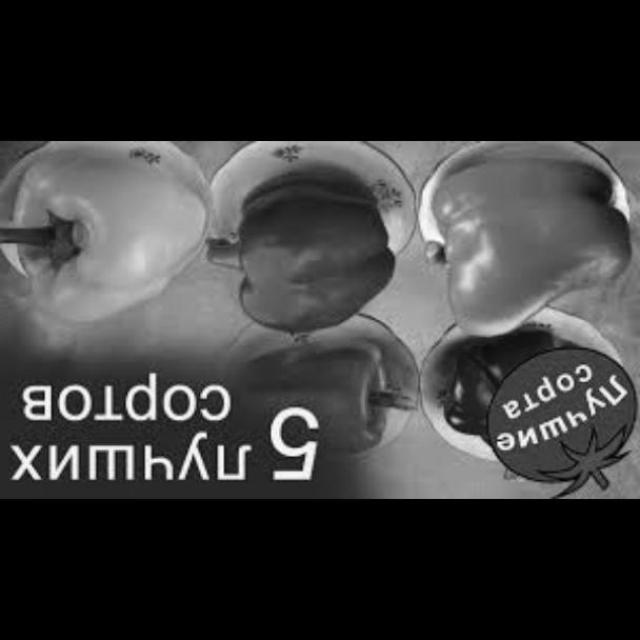bell pepper: (423, 153, 630, 334), (8, 149, 210, 331), (222, 167, 395, 342), (240, 332, 411, 453), (433, 352, 542, 454)
